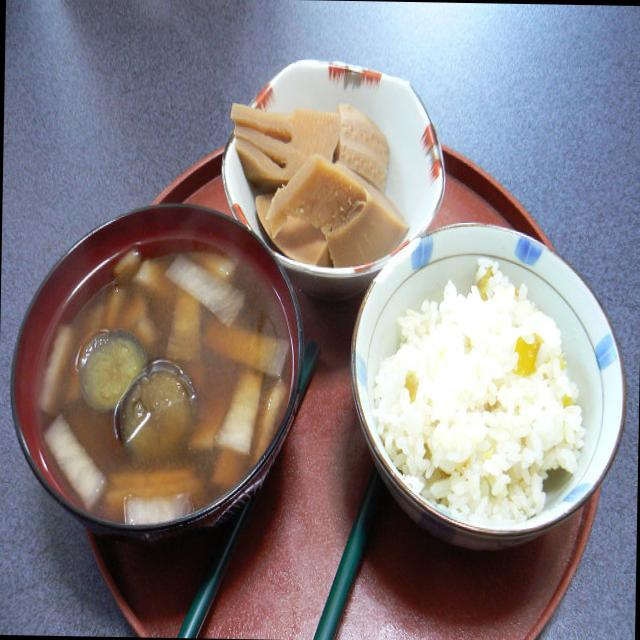Rice: (367, 244, 585, 525)
